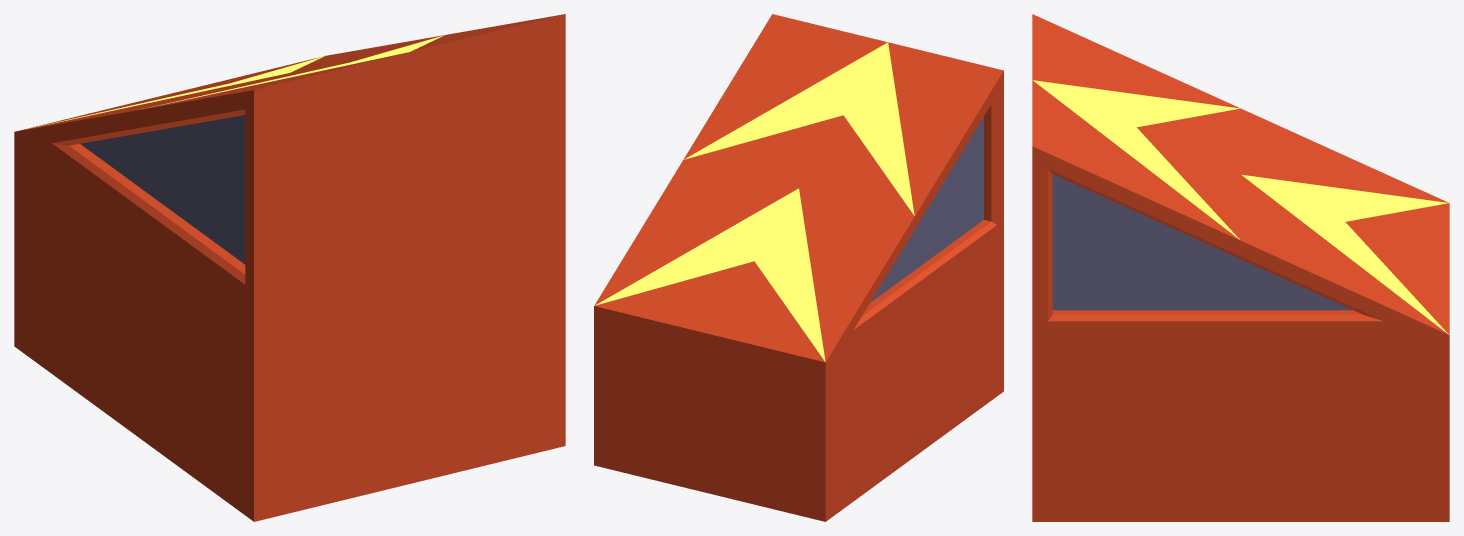
File: snowboardramp.glb
The picture shows the model from 3 angles, left to right: view 1: azimuth 30°, elevation 25°; view 2: azimuth 150°, elevation 25°; view 3: azimuth 270°, elevation 25°; orthographic projection. The views are drawn at different scales.
Visible parts, largest first — view 1: Cube; view 2: Cube; view 3: Cube.
Boxes of the visible parts, x1=… form: Cube: x1=14, y1=14, x2=565, y2=521; Cube: x1=594, y1=14, x2=1003, y2=521; Cube: x1=1032, y1=14, x2=1449, y2=521.
Bounding box in the file's own units: 4.5 × 5.96 × 6.
